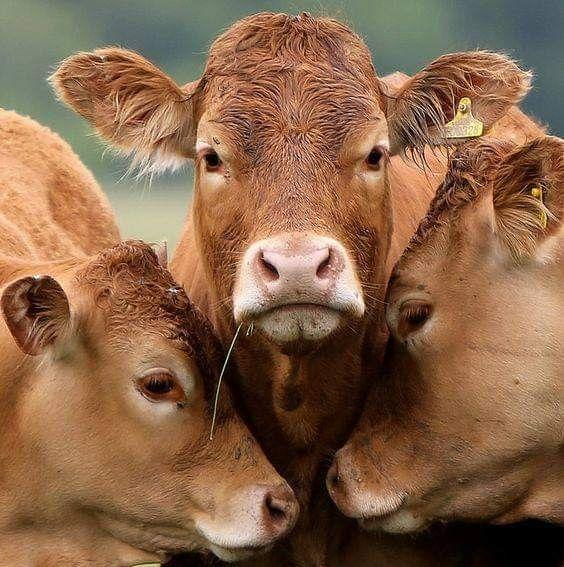cow: (27, 22, 257, 165)
